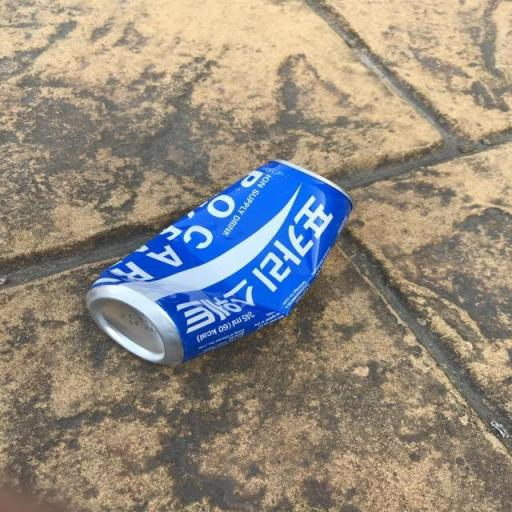metal: (75, 132, 387, 394)
